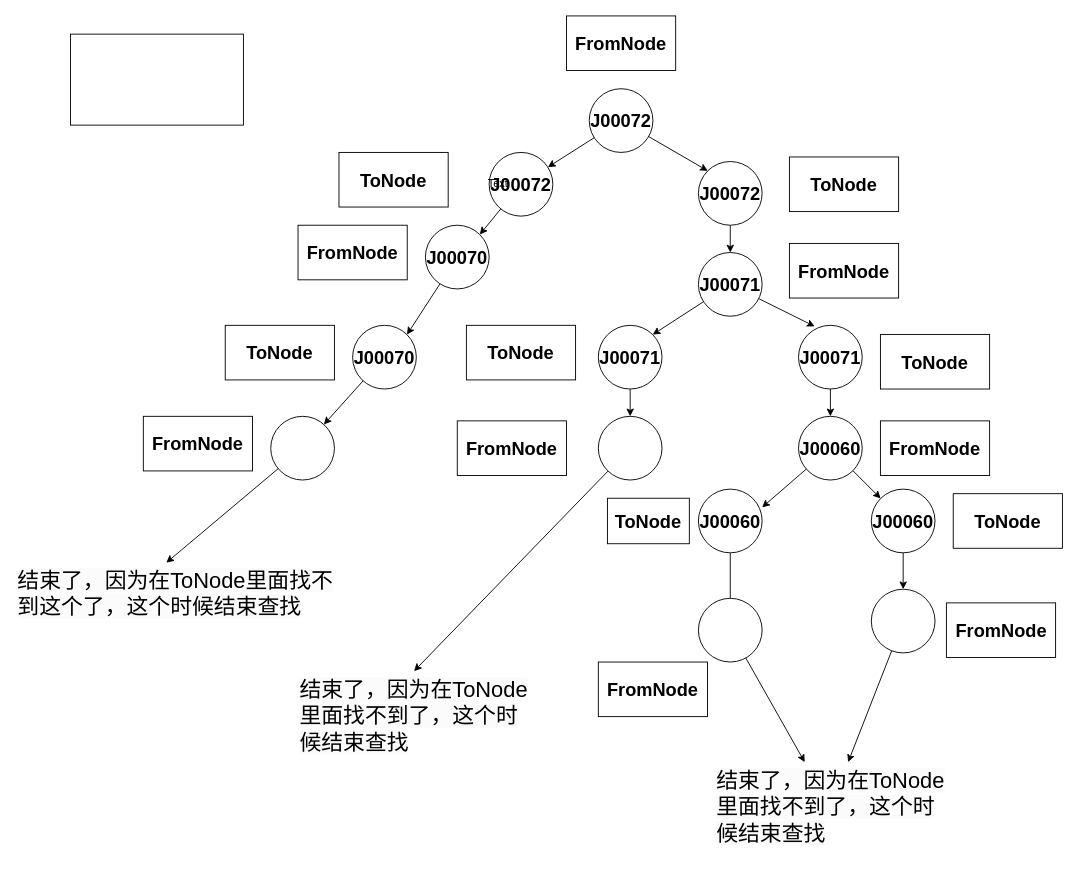
The diagram is 1078 pixels wide and 869 high, and some of its shapes have lost their labels. The centre of each missing label's shape, as x and y in pixels:
c00065: pixel 156 79
J00057: pixel 902 620
J00061: pixel 730 629
J00064: pixel 629 447
J00069: pixel 302 447
